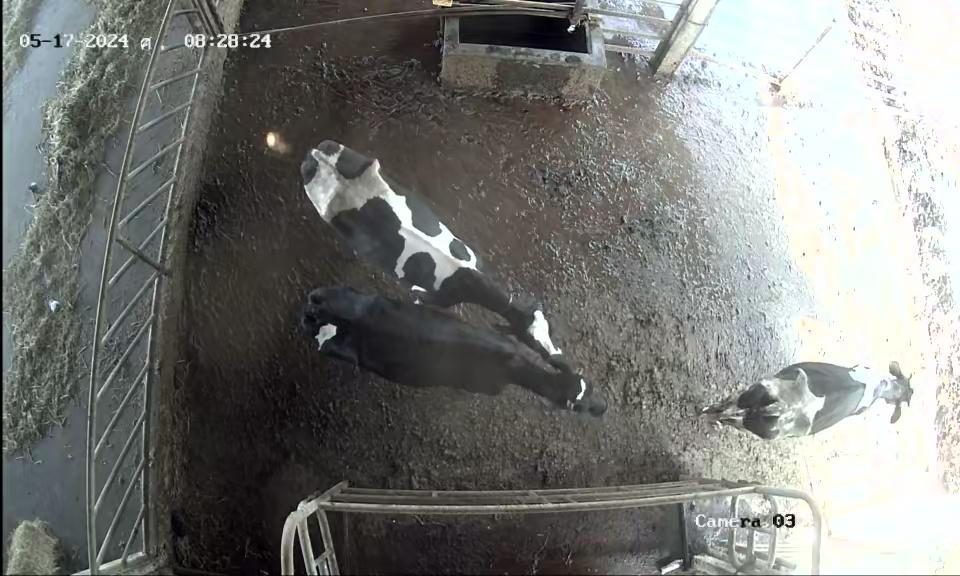stand: (294, 127, 582, 369), (271, 286, 626, 430), (707, 290, 922, 472)
